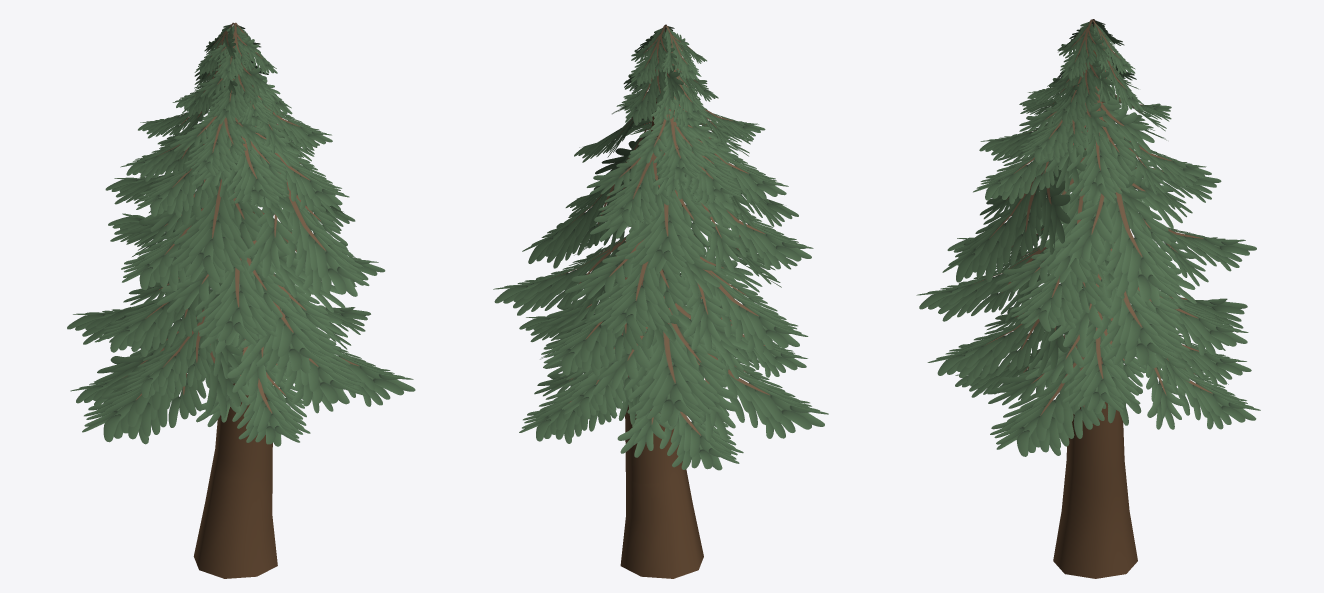
Rendered from pine_tree.fbx.
The picture shows the model from 3 angles, left to right: view 1: azimuth 30°, elevation 25°; view 2: azimuth 150°, elevation 25°; view 3: azimuth 270°, elevation 25°; orthographic projection.
Visible parts, largest first — view 1: PineLeafTexture.002, Vert.012, Vert.002; view 2: PineLeafTexture.002, Vert.012, Vert.002; view 3: PineLeafTexture.002, Vert.012, Vert.002.
Boxes of the visible parts, x1,y1,x2,y2 form: PineLeafTexture.002: (67,22,415,446); Vert.012: (193,466,277,578); Vert.002: (212,40,273,483); PineLeafTexture.002: (493,24,828,470); Vert.012: (620,469,703,578); Vert.002: (625,57,684,484); PineLeafTexture.002: (916,19,1260,456); Vert.012: (1053,477,1137,578); Vert.002: (1065,35,1126,493).
Bounding box in the file's own units: 385 × 533 × 368.
